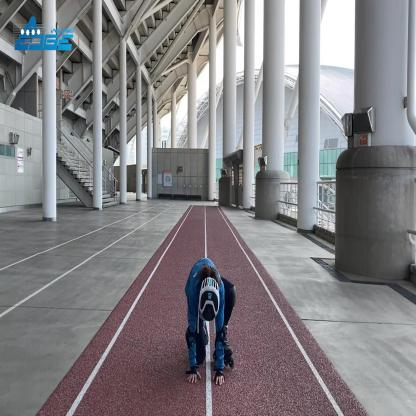Fall_Down: (184, 256, 236, 387)
